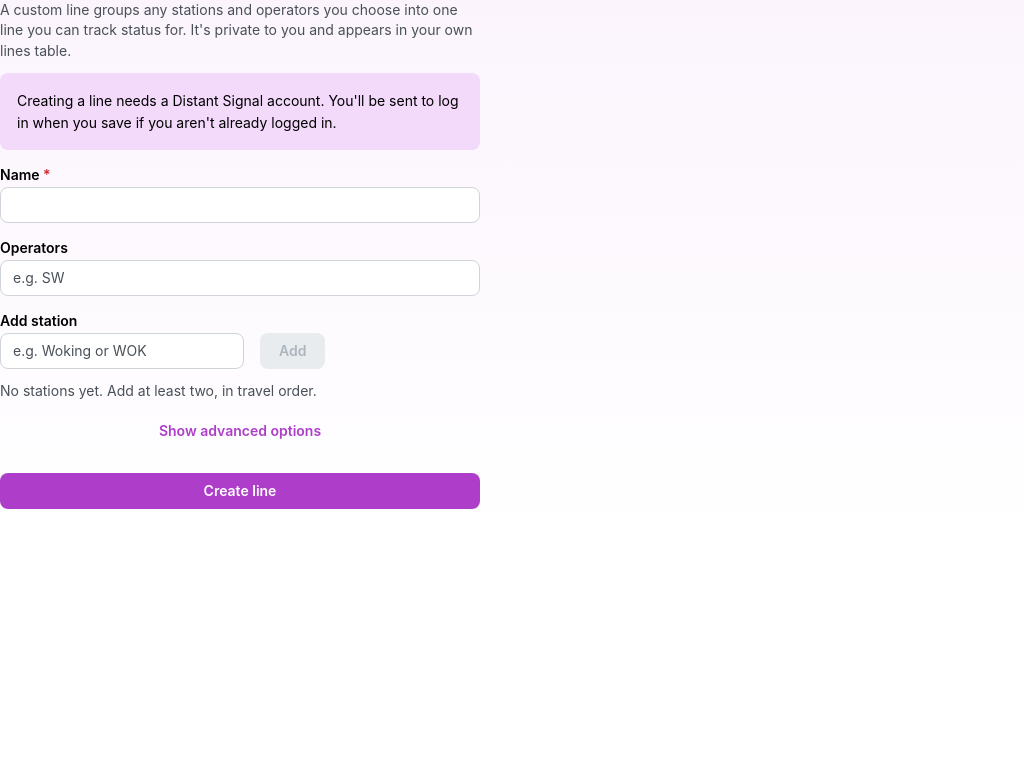
Test: CustomLineForm › a 401 on create shows a login prompt worded for creating, not editing
Type "My Commute" into the field labelled "Name" at (240, 205), box [0,187,480,223]
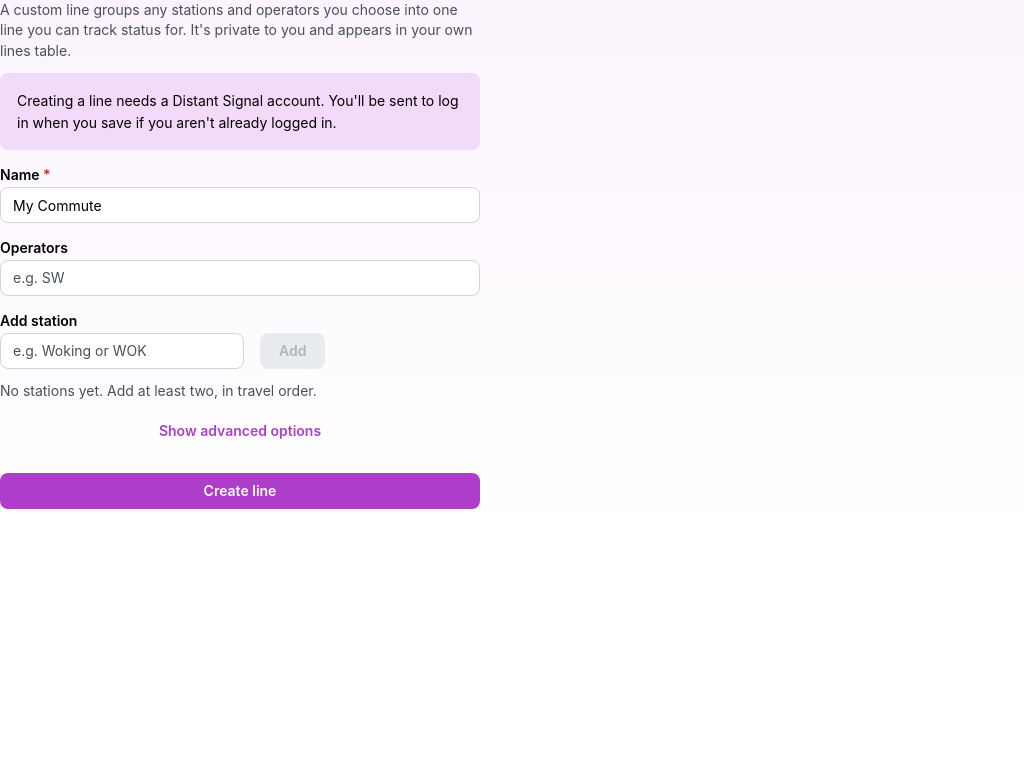
Type "WOK" into the dropdown labelled "Add station" at (122, 351), box [0,333,244,369]
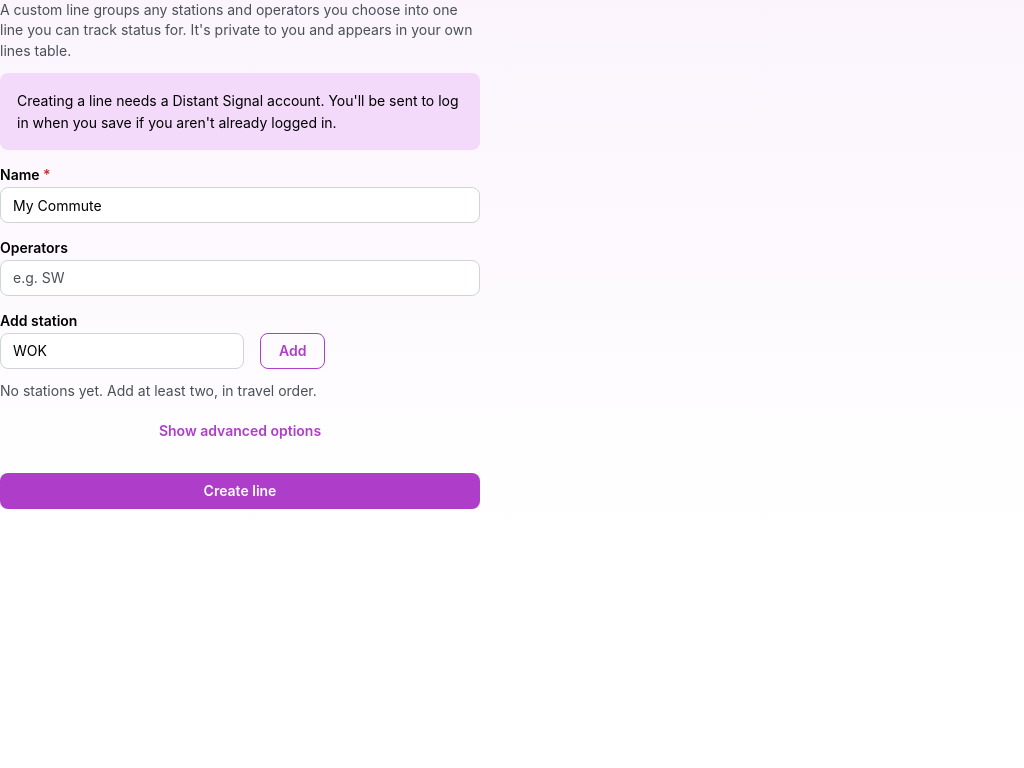
Click the button "Add" at (293, 351), box [260,333,326,369]
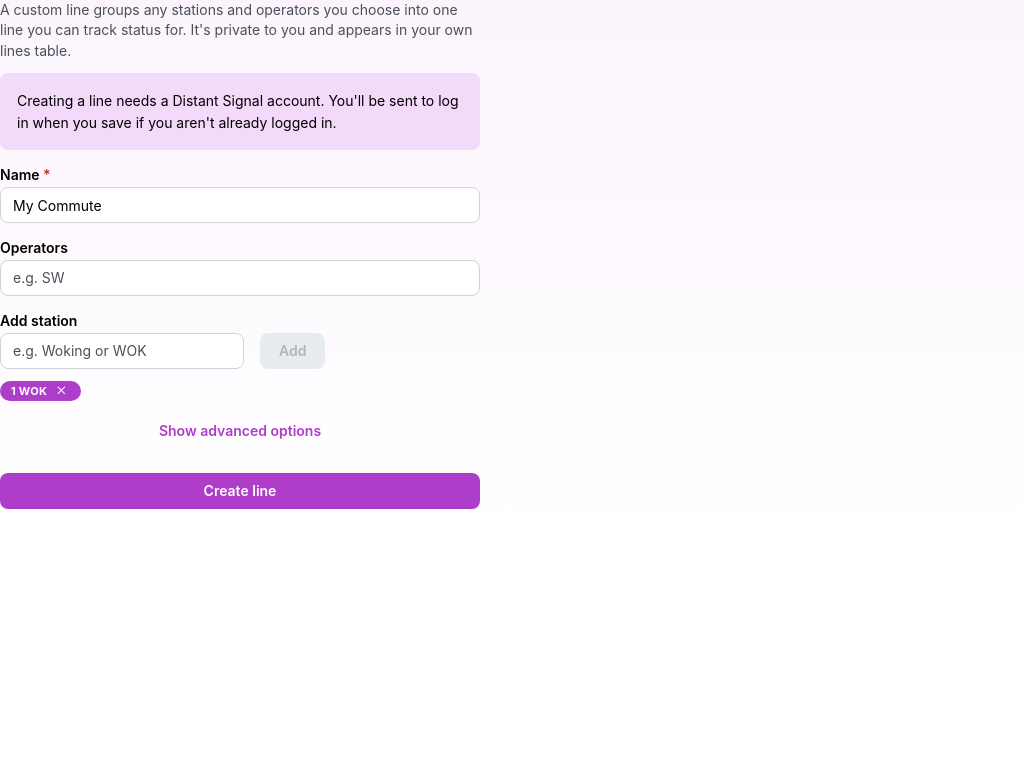
Type "CLJ" into the dropdown labelled "Add station" at (122, 351), box [0,333,244,369]
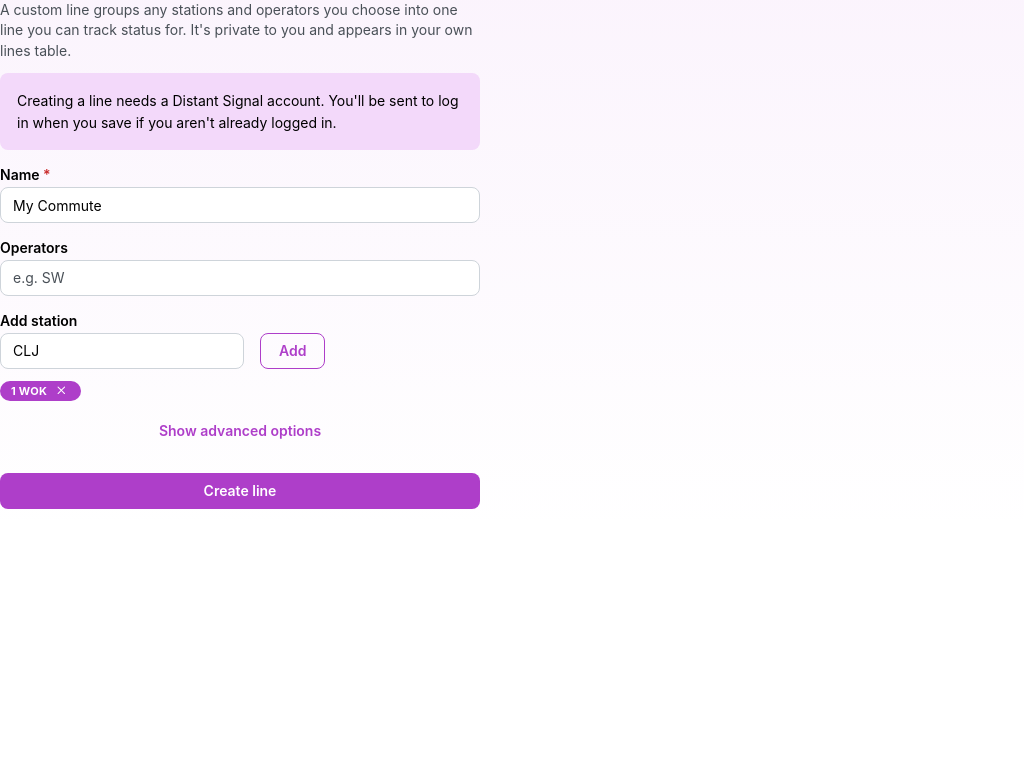
Click the button "Add" at (293, 351), box [260,333,326,369]
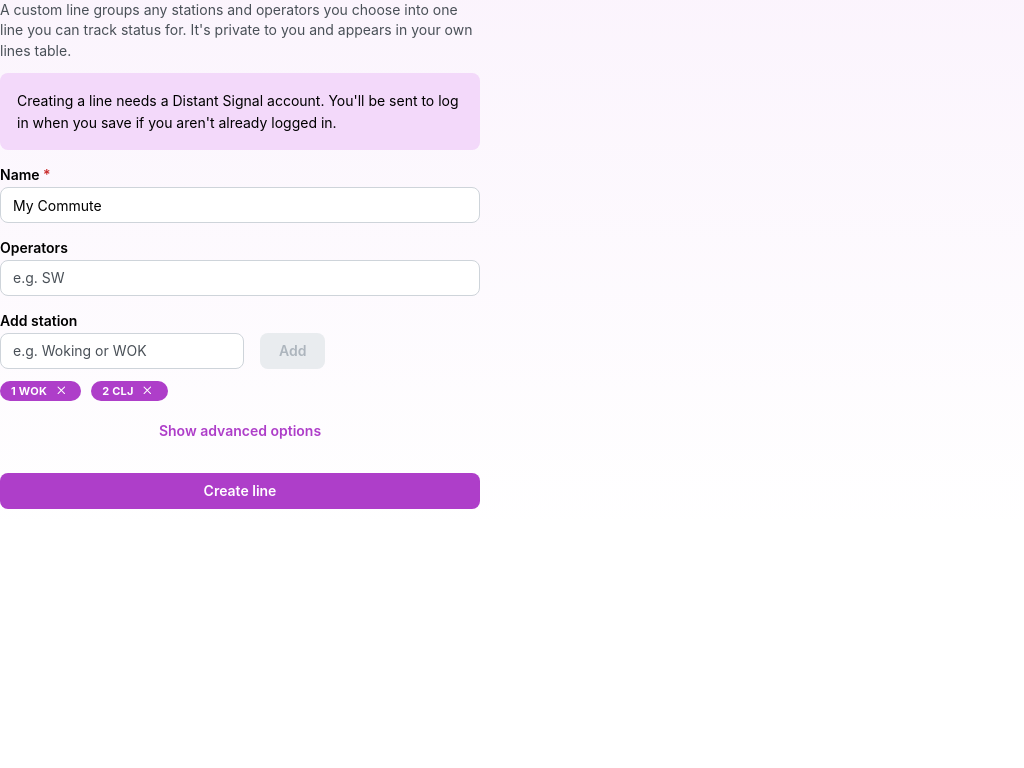
Click the button "Create line" at (240, 491), box [0,473,480,509]
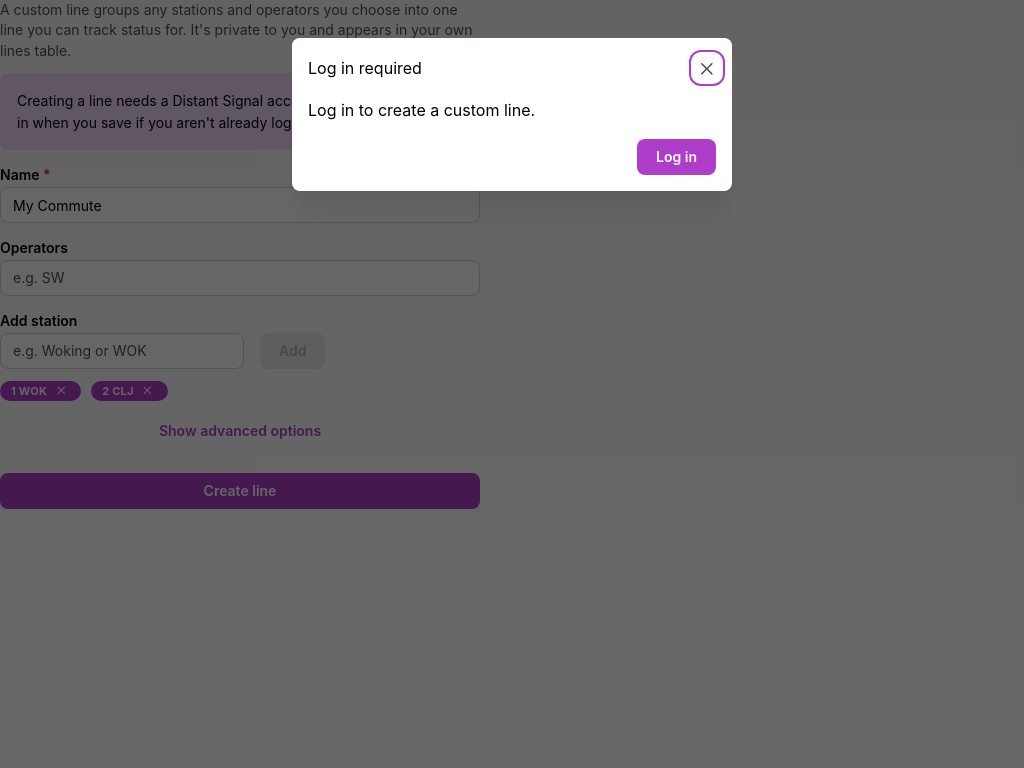
Now the text "Log in to create a custom line." is shown, box [308,100,535,120]
